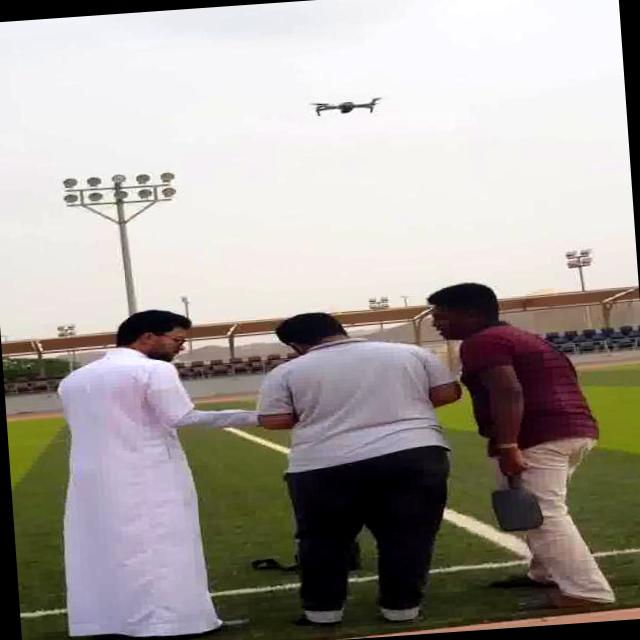drone: (308, 89, 394, 118)
